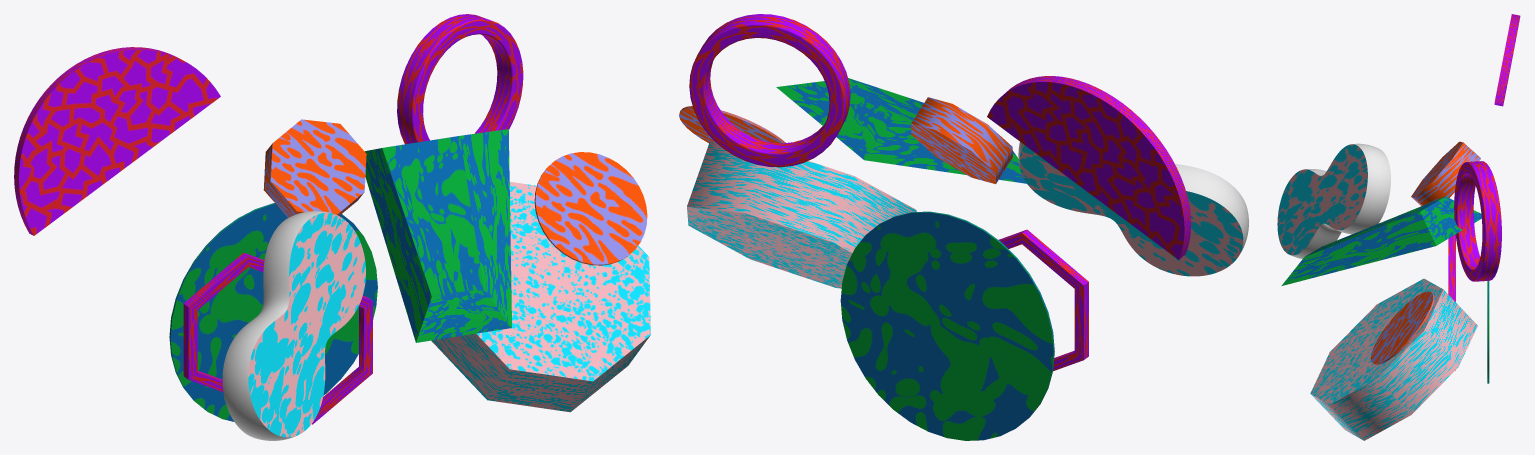
File: Leta_0001.fbx
3 views of the same model, side by side, from view 1: azimuth 30°, elevation 25°; view 2: azimuth 150°, elevation 25°; view 3: azimuth 270°, elevation 25° (orthographic). The views are drawn at different scales.
Visible parts, largest first — view 1: Cube, HalfDisk, Cap_1_2, Cube_2, Big_Circle, Little_Circle, Cap_1, Ring, Large_Octogon, Metaball_2, Hexagon, Small_Octogon; view 2: Big_Circle, HalfDisk, Large_Octogon, Ring, Cube_2, Cube, Cap_2_2, Small_Octogon, Hexagon, Metaball_2, Cap_2, Little_Circle; view 3: Large_Octogon, Cube_2, Cube, Cap_1_2, Ring, Metaball_2, Little_Circle, Small_Octogon, HalfDisk, Cap_1, Hexagon, Big_Circle.
Boxes of the visible parts, x1,y1,x2,y2 form: Cube: [365, 129, 511, 342]; HalfDisk: [14, 47, 220, 235]; Cap_1_2: [476, 182, 650, 381]; Cube_2: [248, 213, 365, 437]; Big_Circle: [169, 203, 377, 421]; Little_Circle: [534, 152, 647, 265]; Cap_1: [270, 119, 366, 214]; Ring: [397, 14, 523, 144]; Large_Octogon: [431, 333, 649, 412]; Metaball_2: [222, 211, 330, 440]; Hexagon: [183, 252, 372, 424]; Small_Octogon: [263, 143, 364, 217]; Big_Circle: [840, 211, 1054, 440]; HalfDisk: [987, 76, 1191, 259]; Large_Octogon: [687, 141, 916, 252]; Ring: [689, 14, 850, 167]; Cube_2: [1019, 145, 1243, 276]; Cube: [776, 78, 1026, 183]; Cap_2_2: [687, 206, 852, 288]; Small_Octogon: [911, 97, 1012, 183]; Hexagon: [999, 229, 1088, 371]; Metaball_2: [1018, 142, 1248, 252]; Cap_2: [911, 123, 995, 184]; Little_Circle: [679, 106, 785, 143]; Large_Octogon: [1311, 289, 1477, 440]; Cube_2: [1277, 144, 1367, 255]; Cube: [1281, 196, 1481, 285]; Cap_1_2: [1310, 278, 1443, 404]; Ring: [1454, 161, 1501, 281]; Metaball_2: [1290, 143, 1390, 258]; Little_Circle: [1370, 291, 1434, 364]; Small_Octogon: [1411, 142, 1480, 205]; HalfDisk: [1494, 14, 1520, 106]; Cap_1: [1411, 141, 1463, 197]; Hexagon: [1448, 234, 1455, 370]; Big_Circle: [1487, 281, 1489, 383].
Size of the model in its own units: 280 by 188 by 138.
Materials: 5 (5 with a texture image).
